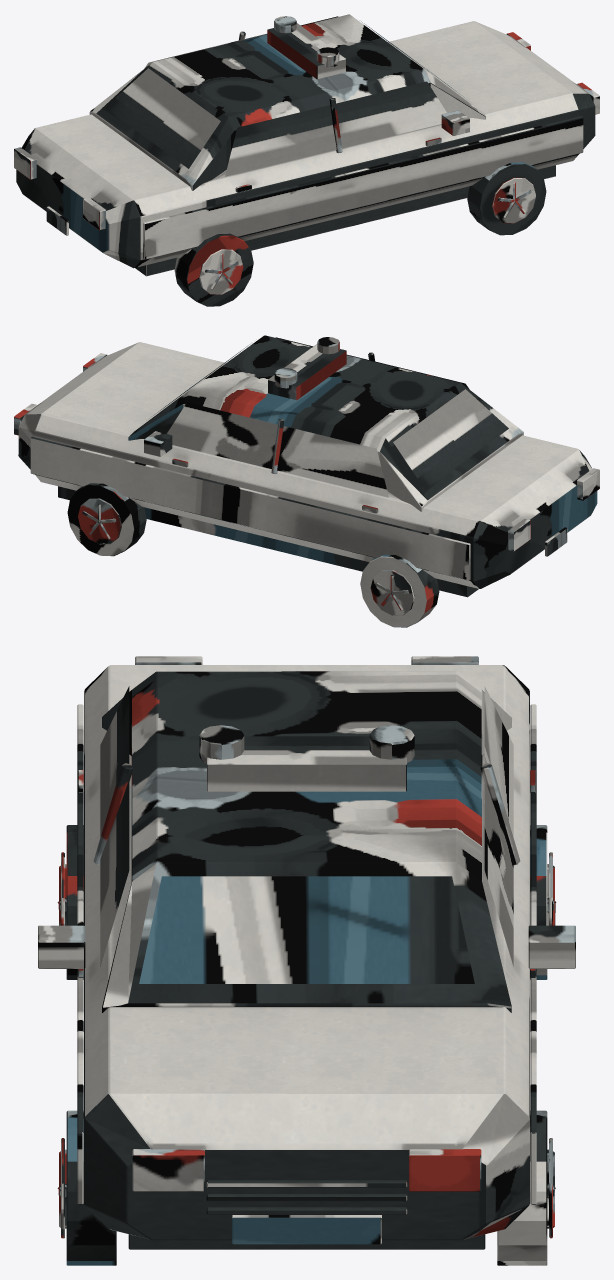
Rendered from patrol_car.obj.
3 views of the same model, one above another, from view 1: azimuth 30°, elevation 25°; view 2: azimuth 150°, elevation 25°; view 3: azimuth 270°, elevation 25° (orthographic). The views are drawn at different scales.
Visible parts, largest first — view 1: patrol_car; view 2: patrol_car; view 3: patrol_car.
Part boxes in pixels (<box>): patrol_car: <box>14,14,599,306</box>; patrol_car: <box>14,335,599,627</box>; patrol_car: <box>38,656,575,1265</box>.
Bounding box in the file's own units: 4.62 × 1.68 × 2.15.
1 material, 1 textured.
